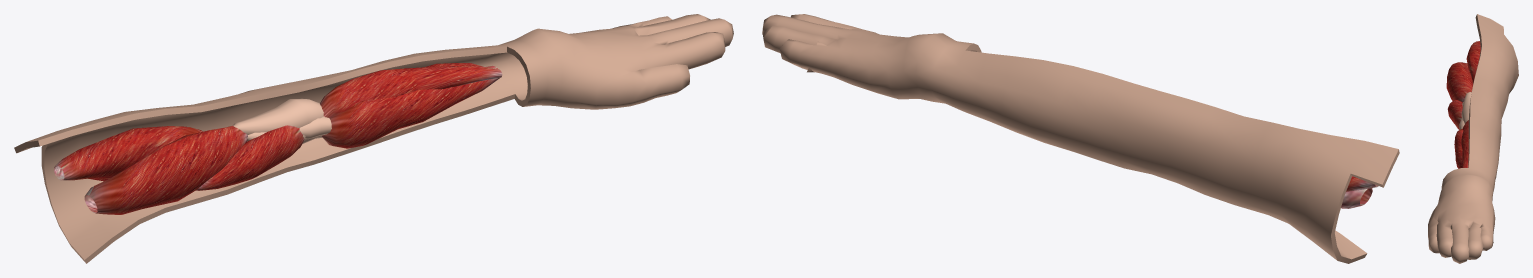
Rendered from hand muscil.fbx.
The picture shows the model from 3 angles, left to right: view 1: azimuth 30°, elevation 25°; view 2: azimuth 150°, elevation 25°; view 3: azimuth 270°, elevation 25°; orthographic projection. The views are drawn at different scales.
Parts seen in each view (by area): view 1: polySurface6, muscils:pCylinder2, pCylinder3, pCylinder6, pCylinder2, pCylinder7, pSphere2, pSphere1; view 2: polySurface6, muscils:pCylinder2; view 3: polySurface6, muscils:pCylinder2, pCylinder2, pCylinder7, pCylinder6, pCylinder3, pSphere2.
Part boxes in pixels (x1,y1,x2,y2): polySurface6: [14, 14, 733, 263]; muscils:pCylinder2: [84, 125, 247, 214]; pCylinder3: [321, 65, 499, 148]; pCylinder6: [320, 65, 502, 117]; pCylinder2: [54, 126, 202, 181]; pCylinder7: [196, 125, 304, 190]; pSphere2: [233, 98, 323, 134]; pSphere1: [299, 117, 331, 139]; polySurface6: [762, 14, 1399, 263]; muscils:pCylinder2: [1341, 188, 1372, 208]; polySurface6: [1428, 14, 1518, 263]; muscils:pCylinder2: [1446, 62, 1473, 102]; pCylinder2: [1466, 41, 1480, 83]; pCylinder7: [1447, 100, 1462, 129]; pCylinder6: [1461, 120, 1468, 167]; pCylinder3: [1454, 128, 1463, 168]; pSphere2: [1461, 92, 1471, 123].
Bounding box in the file's own units: 76.98 × 13.99 × 13.73.
